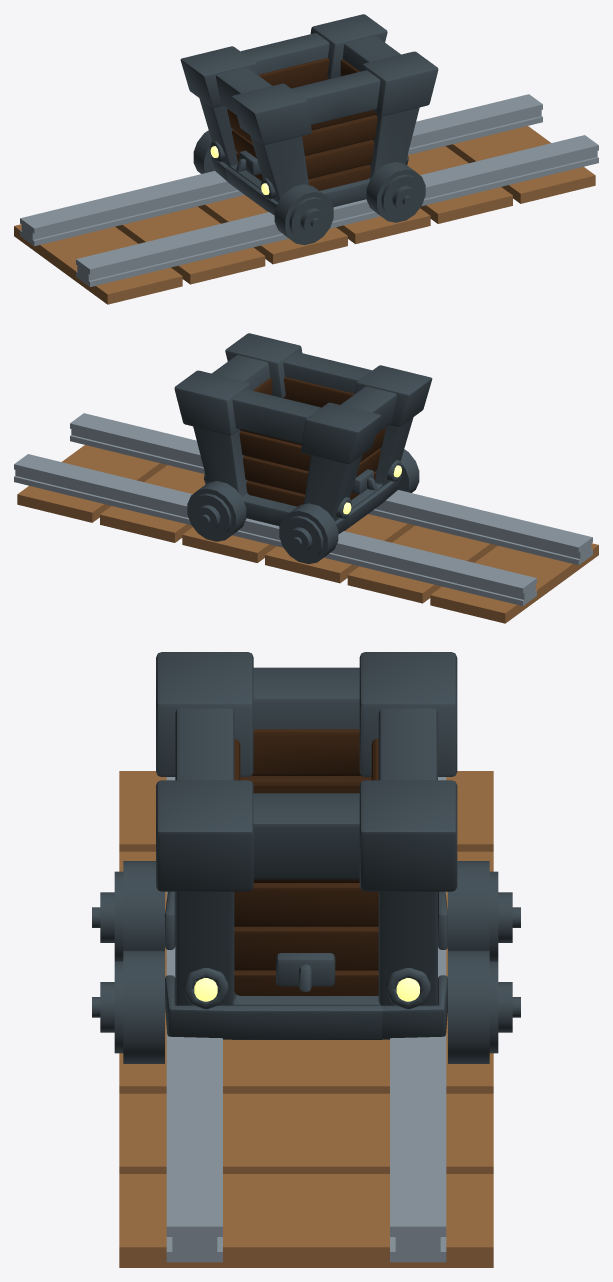
File: carrinhoNoTrilho1.fbx
3 renders of one model, top to bottom at view 1: azimuth 30°, elevation 25°; view 2: azimuth 150°, elevation 25°; view 3: azimuth 270°, elevation 25°, orthographic. The views are drawn at different scales.
Visible parts, largest first — view 1: Carrinho, Trilho, Trilho-madeira, Rodas, Parachoque, Luz; view 2: Carrinho, Trilho, Trilho-madeira, Rodas, Parachoque, Luz; view 3: Carrinho, Trilho-madeira, Trilho, Rodas, Parachoque, Luz.
Part boxes in pixels (bbox=[...]): Carrinho: bbox=[180, 14, 438, 206]; Trilho: bbox=[20, 94, 598, 286]; Trilho-madeira: bbox=[14, 126, 595, 304]; Rodas: bbox=[193, 130, 425, 245]; Parachoque: bbox=[211, 156, 277, 215]; Luz: bbox=[210, 141, 408, 199]; Carrinho: bbox=[174, 333, 432, 525]; Trilho: bbox=[14, 413, 592, 605]; Trilho-madeira: bbox=[17, 445, 598, 623]; Rodas: bbox=[187, 449, 419, 563]; Parachoque: bbox=[335, 475, 401, 534]; Luz: bbox=[204, 460, 402, 518]; Carrinho: bbox=[156, 652, 457, 1005]; Trilho-madeira: bbox=[119, 771, 493, 1267]; Trilho: bbox=[166, 777, 446, 1262]; Rodas: bbox=[92, 861, 520, 1063]; Parachoque: bbox=[165, 891, 447, 1039]; Luz: bbox=[183, 968, 430, 1009].
Bounding box in the file's own units: 1130 × 312 × 413.
